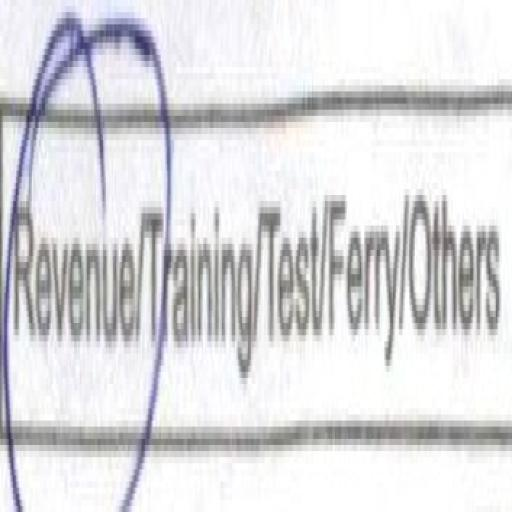check: (0, 33, 142, 512)
